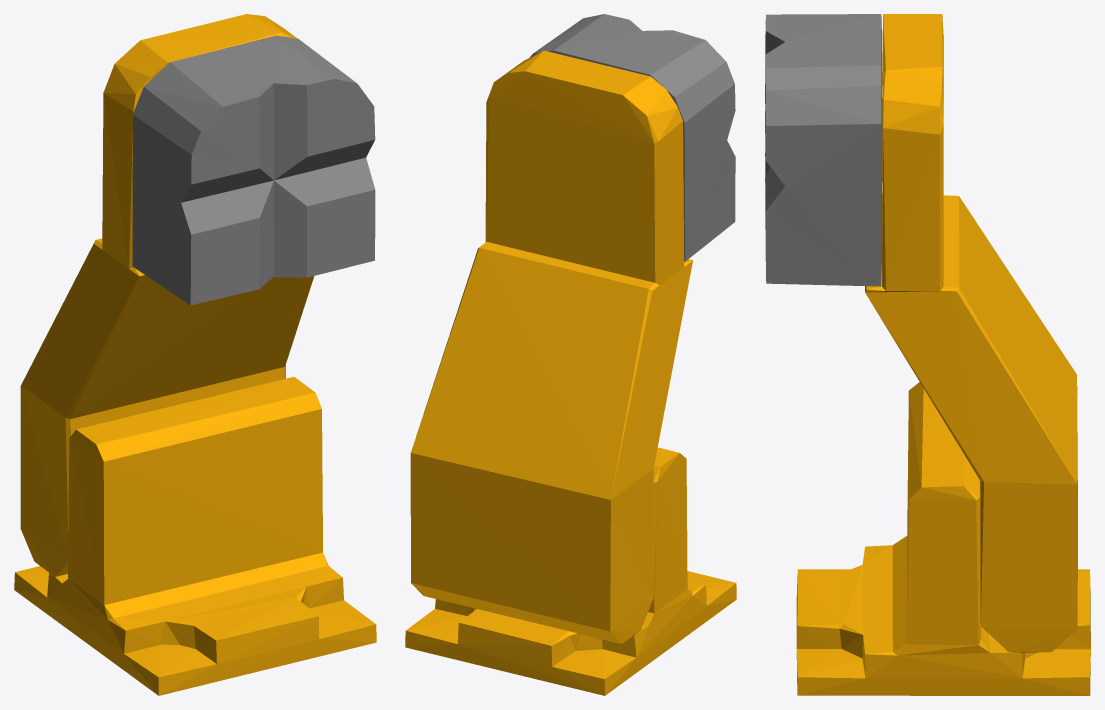
File: finger.dae
3 views of the same model, side by side, from view 1: azimuth 30°, elevation 25°; view 2: azimuth 150°, elevation 25°; view 3: azimuth 270°, elevation 25° (orthographic). The views are drawn at different scales.
Parts seen in each view (by area): view 1: node1, node0; view 2: node1, node0; view 3: node1, node0.
Boxes of the visible parts, x1,y1,x2,y2 form: node1: (14, 14, 376, 695); node0: (132, 35, 375, 305); node1: (405, 50, 736, 695); node0: (529, 14, 735, 261); node1: (796, 14, 1090, 695); node0: (765, 14, 882, 286).
Bounding box in the file's own units: 0.021 × 0.0264 × 0.0538.
